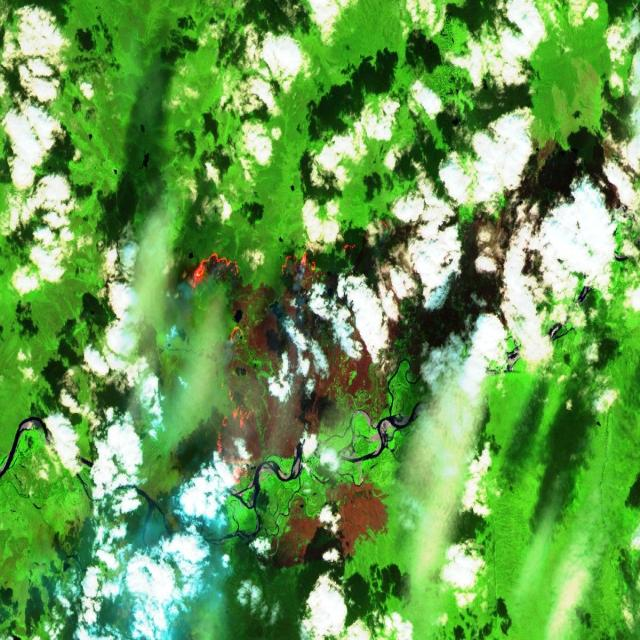fire: (178, 229, 419, 480)
